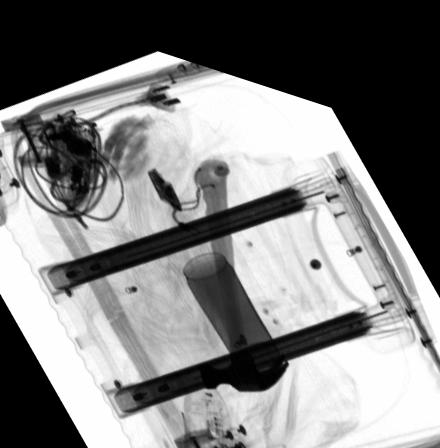Hammer: (193, 145, 289, 376)
